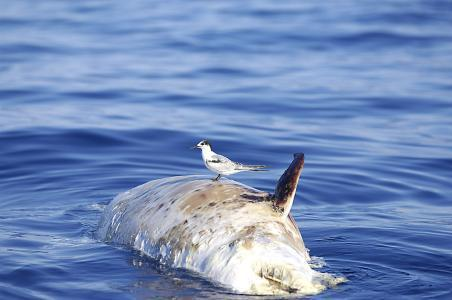bird: (191, 139, 267, 177)
